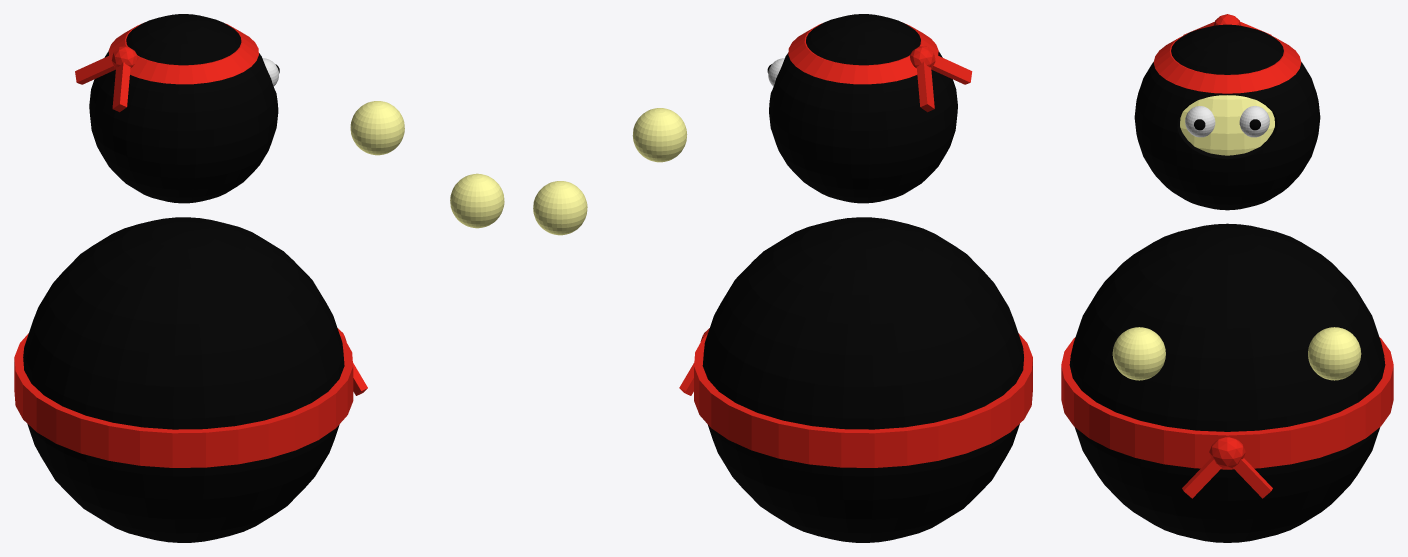
The model's file is bobbleninja.fbx.
The picture shows the model from 3 angles, left to right: view 1: azimuth 30°, elevation 25°; view 2: azimuth 150°, elevation 25°; view 3: azimuth 270°, elevation 25°; orthographic projection. The views are drawn at different scales.
Visible parts, largest first — view 1: Cube, Cube.002, Sphere.003, Sphere.002; view 2: Cube, Cube.002, Sphere.003, Sphere.002; view 3: Cube, Cube.002, Sphere.002, Sphere.003.
Part boxes in pixels (x1=…): Cube: x1=14, y1=217, x2=367, y2=542; Cube.002: x1=75, y1=14, x2=279, y2=203; Sphere.003: x1=350, y1=101, x2=404, y2=155; Sphere.002: x1=450, y1=173, x2=504, y2=228; Cube: x1=679, y1=217, x2=1032, y2=542; Cube.002: x1=767, y1=14, x2=972, y2=203; Sphere.003: x1=533, y1=181, x2=587, y2=235; Sphere.002: x1=632, y1=108, x2=687, y2=162; Cube: x1=1061, y1=223, x2=1393, y2=542; Cube.002: x1=1134, y1=14, x2=1320, y2=210; Sphere.002: x1=1112, y1=327, x2=1165, y2=380; Sphere.003: x1=1308, y1=327, x2=1361, y2=380.
Size of the model in its own units: 434 by 499 by 304.
